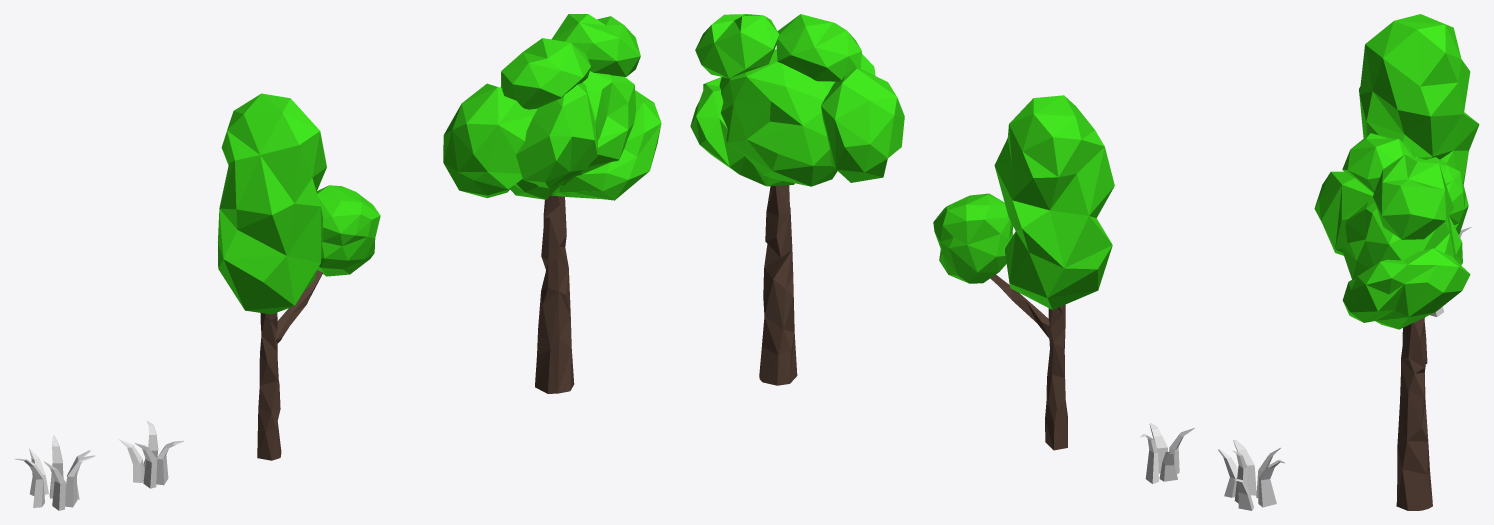
Rendered from LowpolyTree.fbx.
The picture shows the model from 3 angles, left to right: view 1: azimuth 30°, elevation 25°; view 2: azimuth 150°, elevation 25°; view 3: azimuth 270°, elevation 25°; orthographic projection. The views are drawn at different scales.
Parts seen in each view (by area): view 1: Tree2, Tree1, Grass1, Grass2; view 2: Tree2, Tree1, Grass1, Grass2; view 3: Tree2, Tree1.
Part boxes in pixels (x1=…): Tree2: x1=443, y1=14, x2=661, y2=393; Tree1: x1=217, y1=93, x2=380, y2=460; Grass1: x1=14, y1=435, x2=95, y2=510; Grass2: x1=118, y1=421, x2=183, y2=488; Tree2: x1=690, y1=14, x2=904, y2=385; Tree1: x1=933, y1=95, x2=1114, y2=450; Grass1: x1=1218, y1=440, x2=1285, y2=510; Grass2: x1=1140, y1=423, x2=1194, y2=484; Tree2: x1=1314, y1=133, x2=1470, y2=510; Tree1: x1=1359, y1=14, x2=1479, y2=363.
Bounding box in the file's own units: 539 × 303 × 126.
